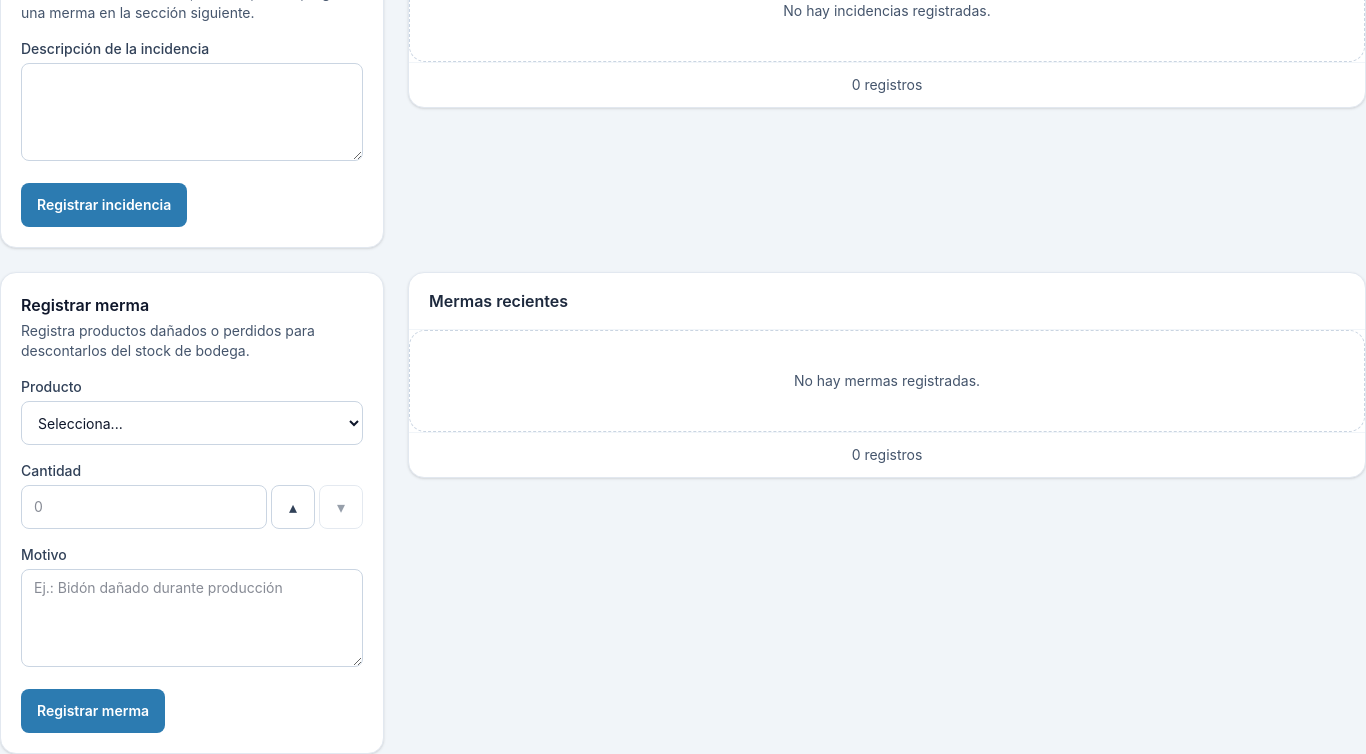
FX2 R4-11 · validación de incidencias persiste en campo sin Toast
(page scrolled)
Click the button "Registrar merma": [93, 711] box top-left (21, 689), bottom-right (165, 733)
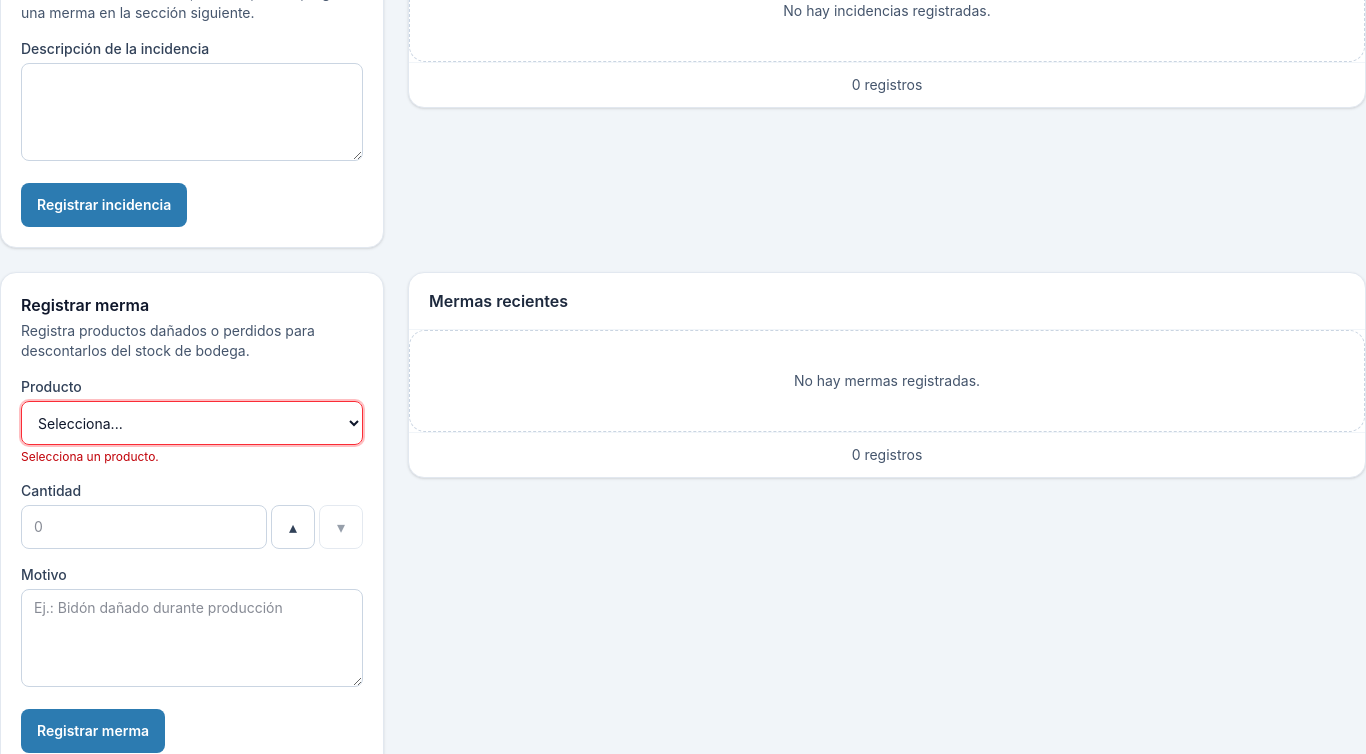
expect the text "Selecciona un producto." is shown once: met, box top-left (21, 449), bottom-right (159, 464)
